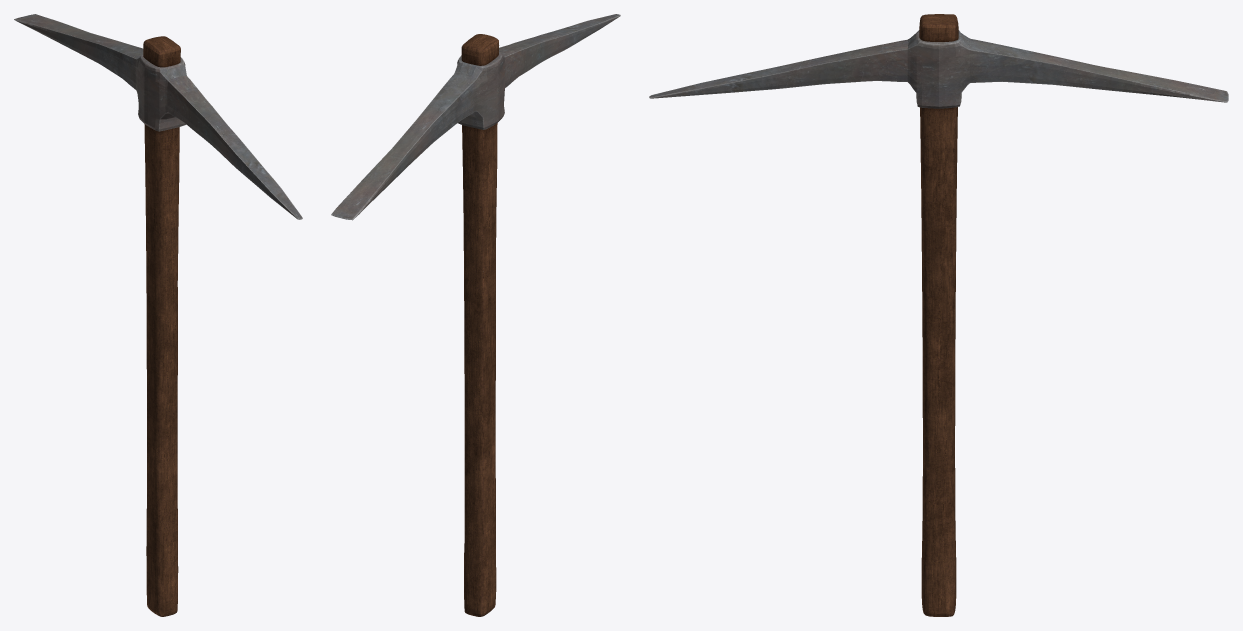
File: diamond pickaxe.fbx
The picture shows the model from 3 angles, left to right: view 1: azimuth 30°, elevation 25°; view 2: azimuth 150°, elevation 25°; view 3: azimuth 270°, elevation 25°; orthographic projection. The views are drawn at different scales.
Visible parts, largest first — view 1: low 1; view 2: low 1; view 3: low 1.
Boxes of the visible parts, bbox=[...] form: low 1: bbox=[14, 14, 302, 616]; low 1: bbox=[331, 14, 620, 616]; low 1: bbox=[649, 14, 1228, 616].
Bounding box in the file's own units: 37.51 × 562 × 494.
1 material, 1 textured.
